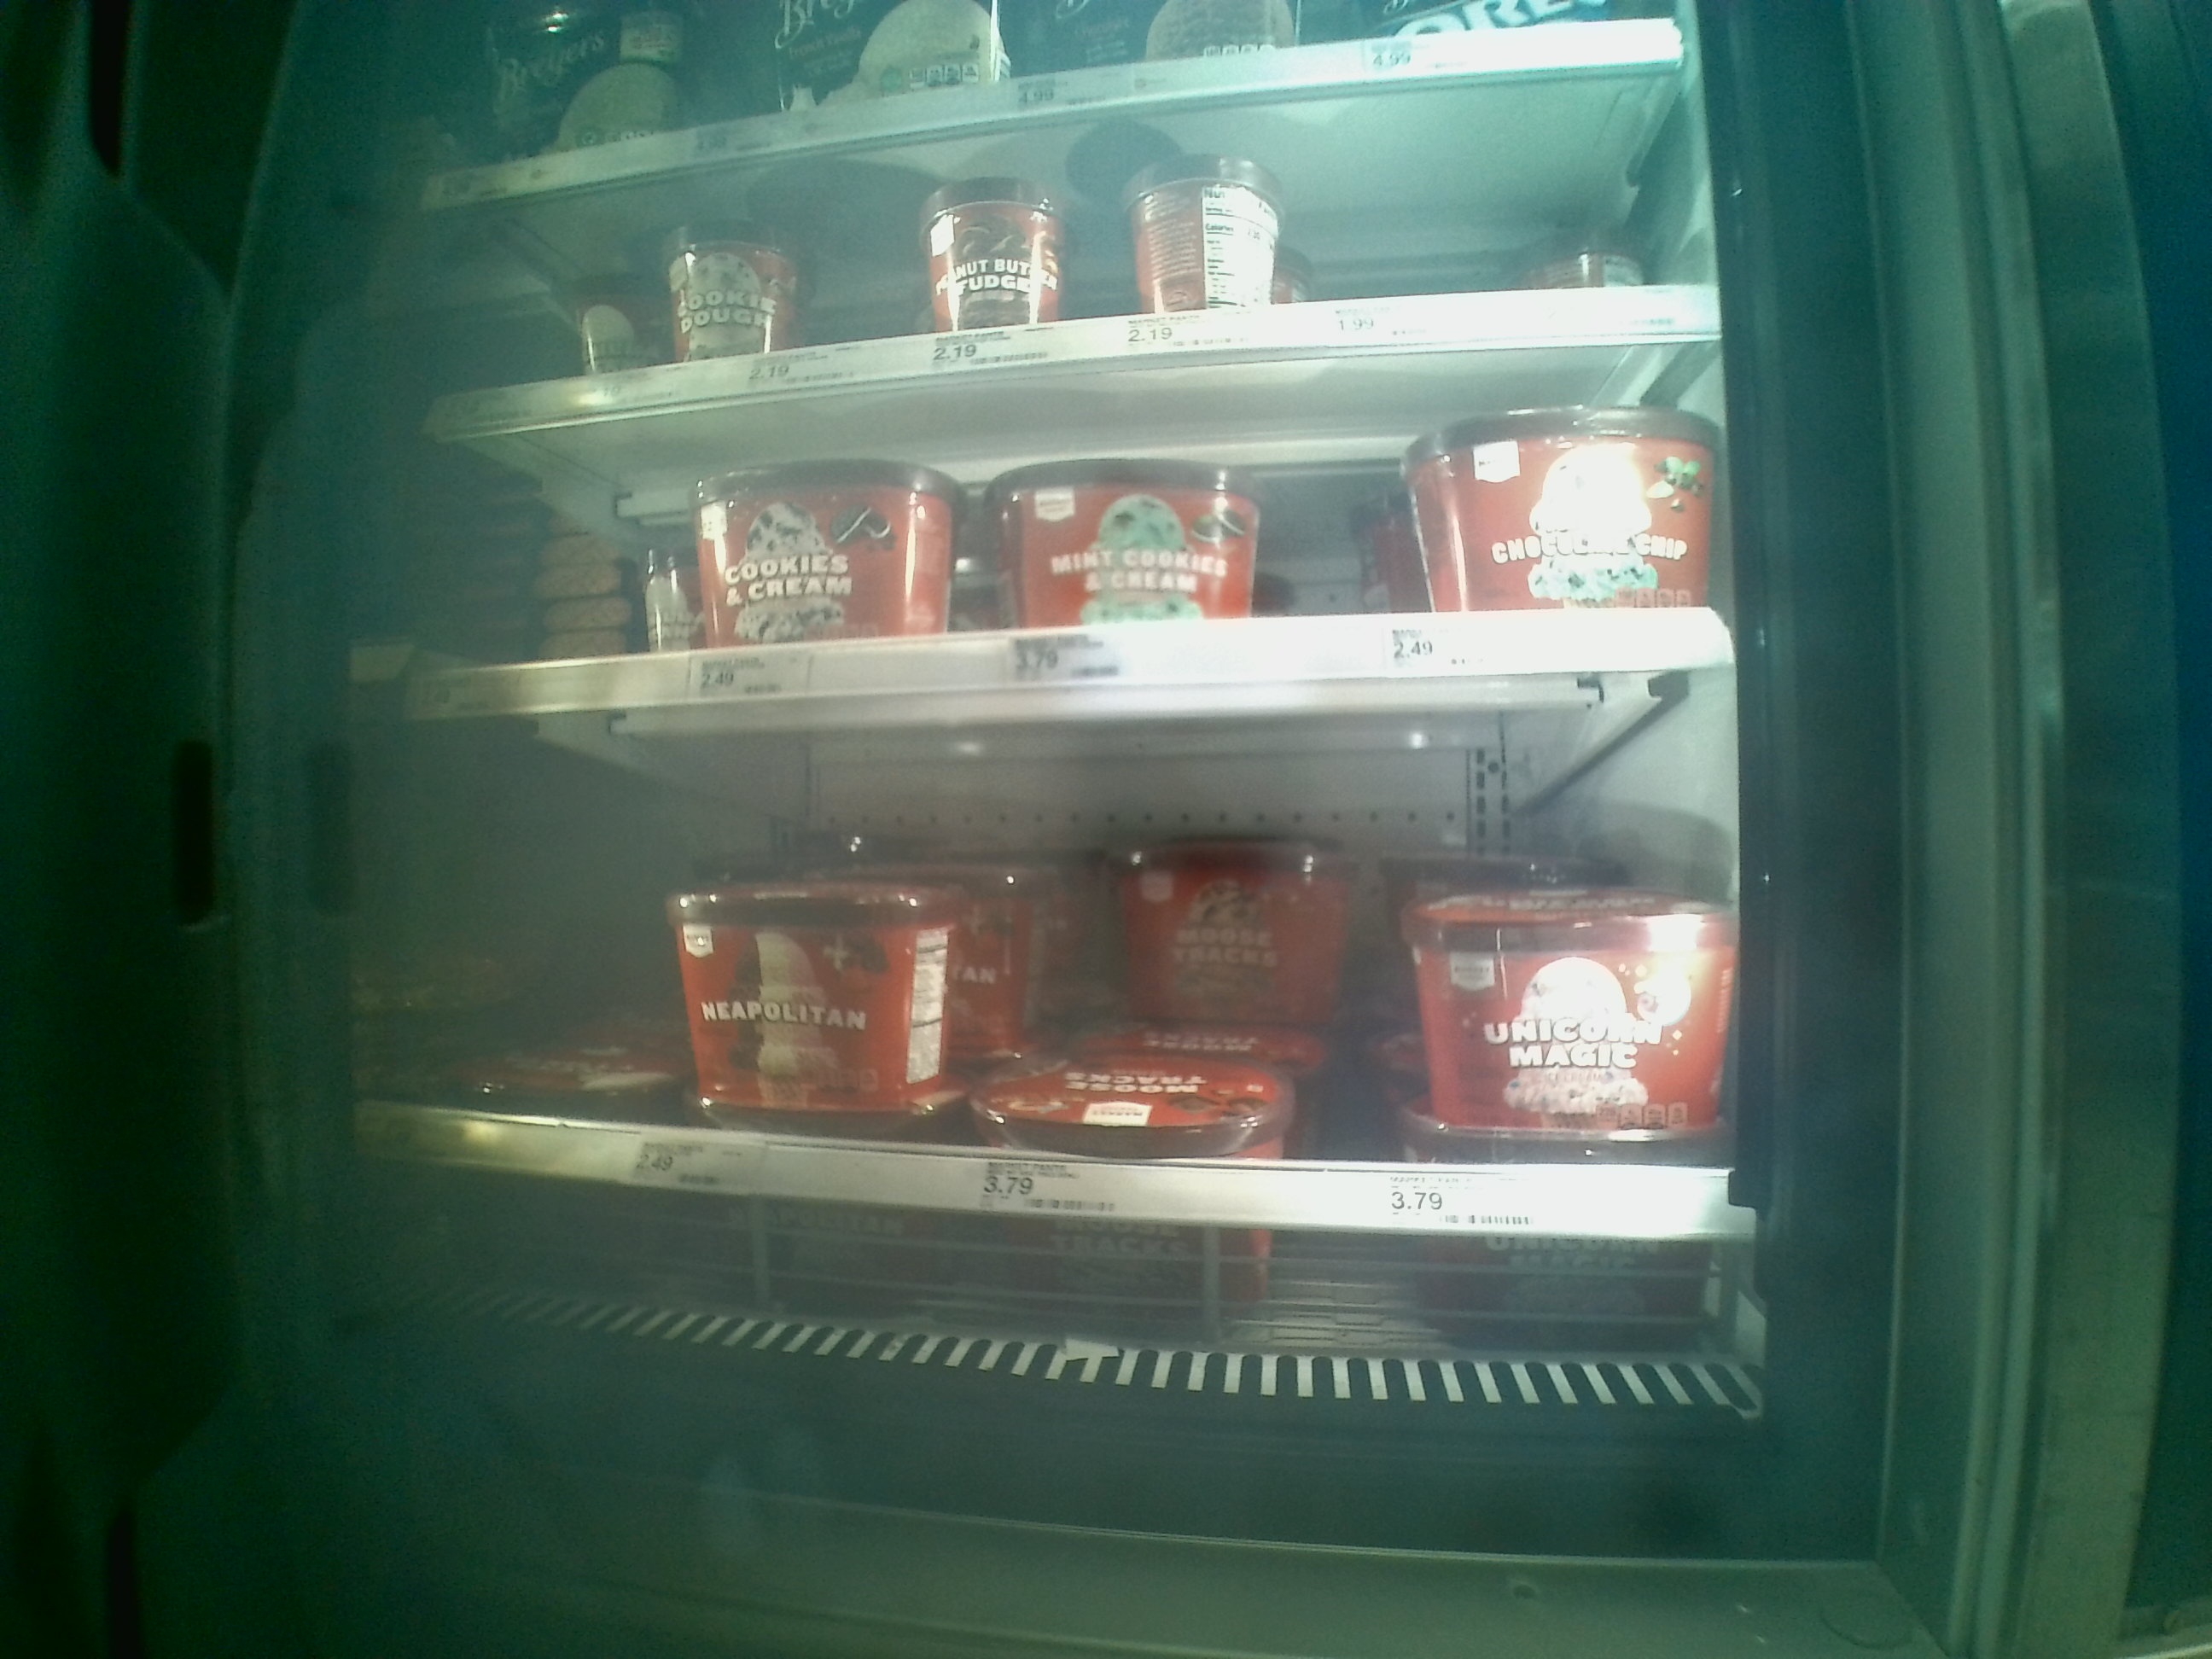shelf: (381, 725, 1731, 1349), (394, 387, 1723, 694)
